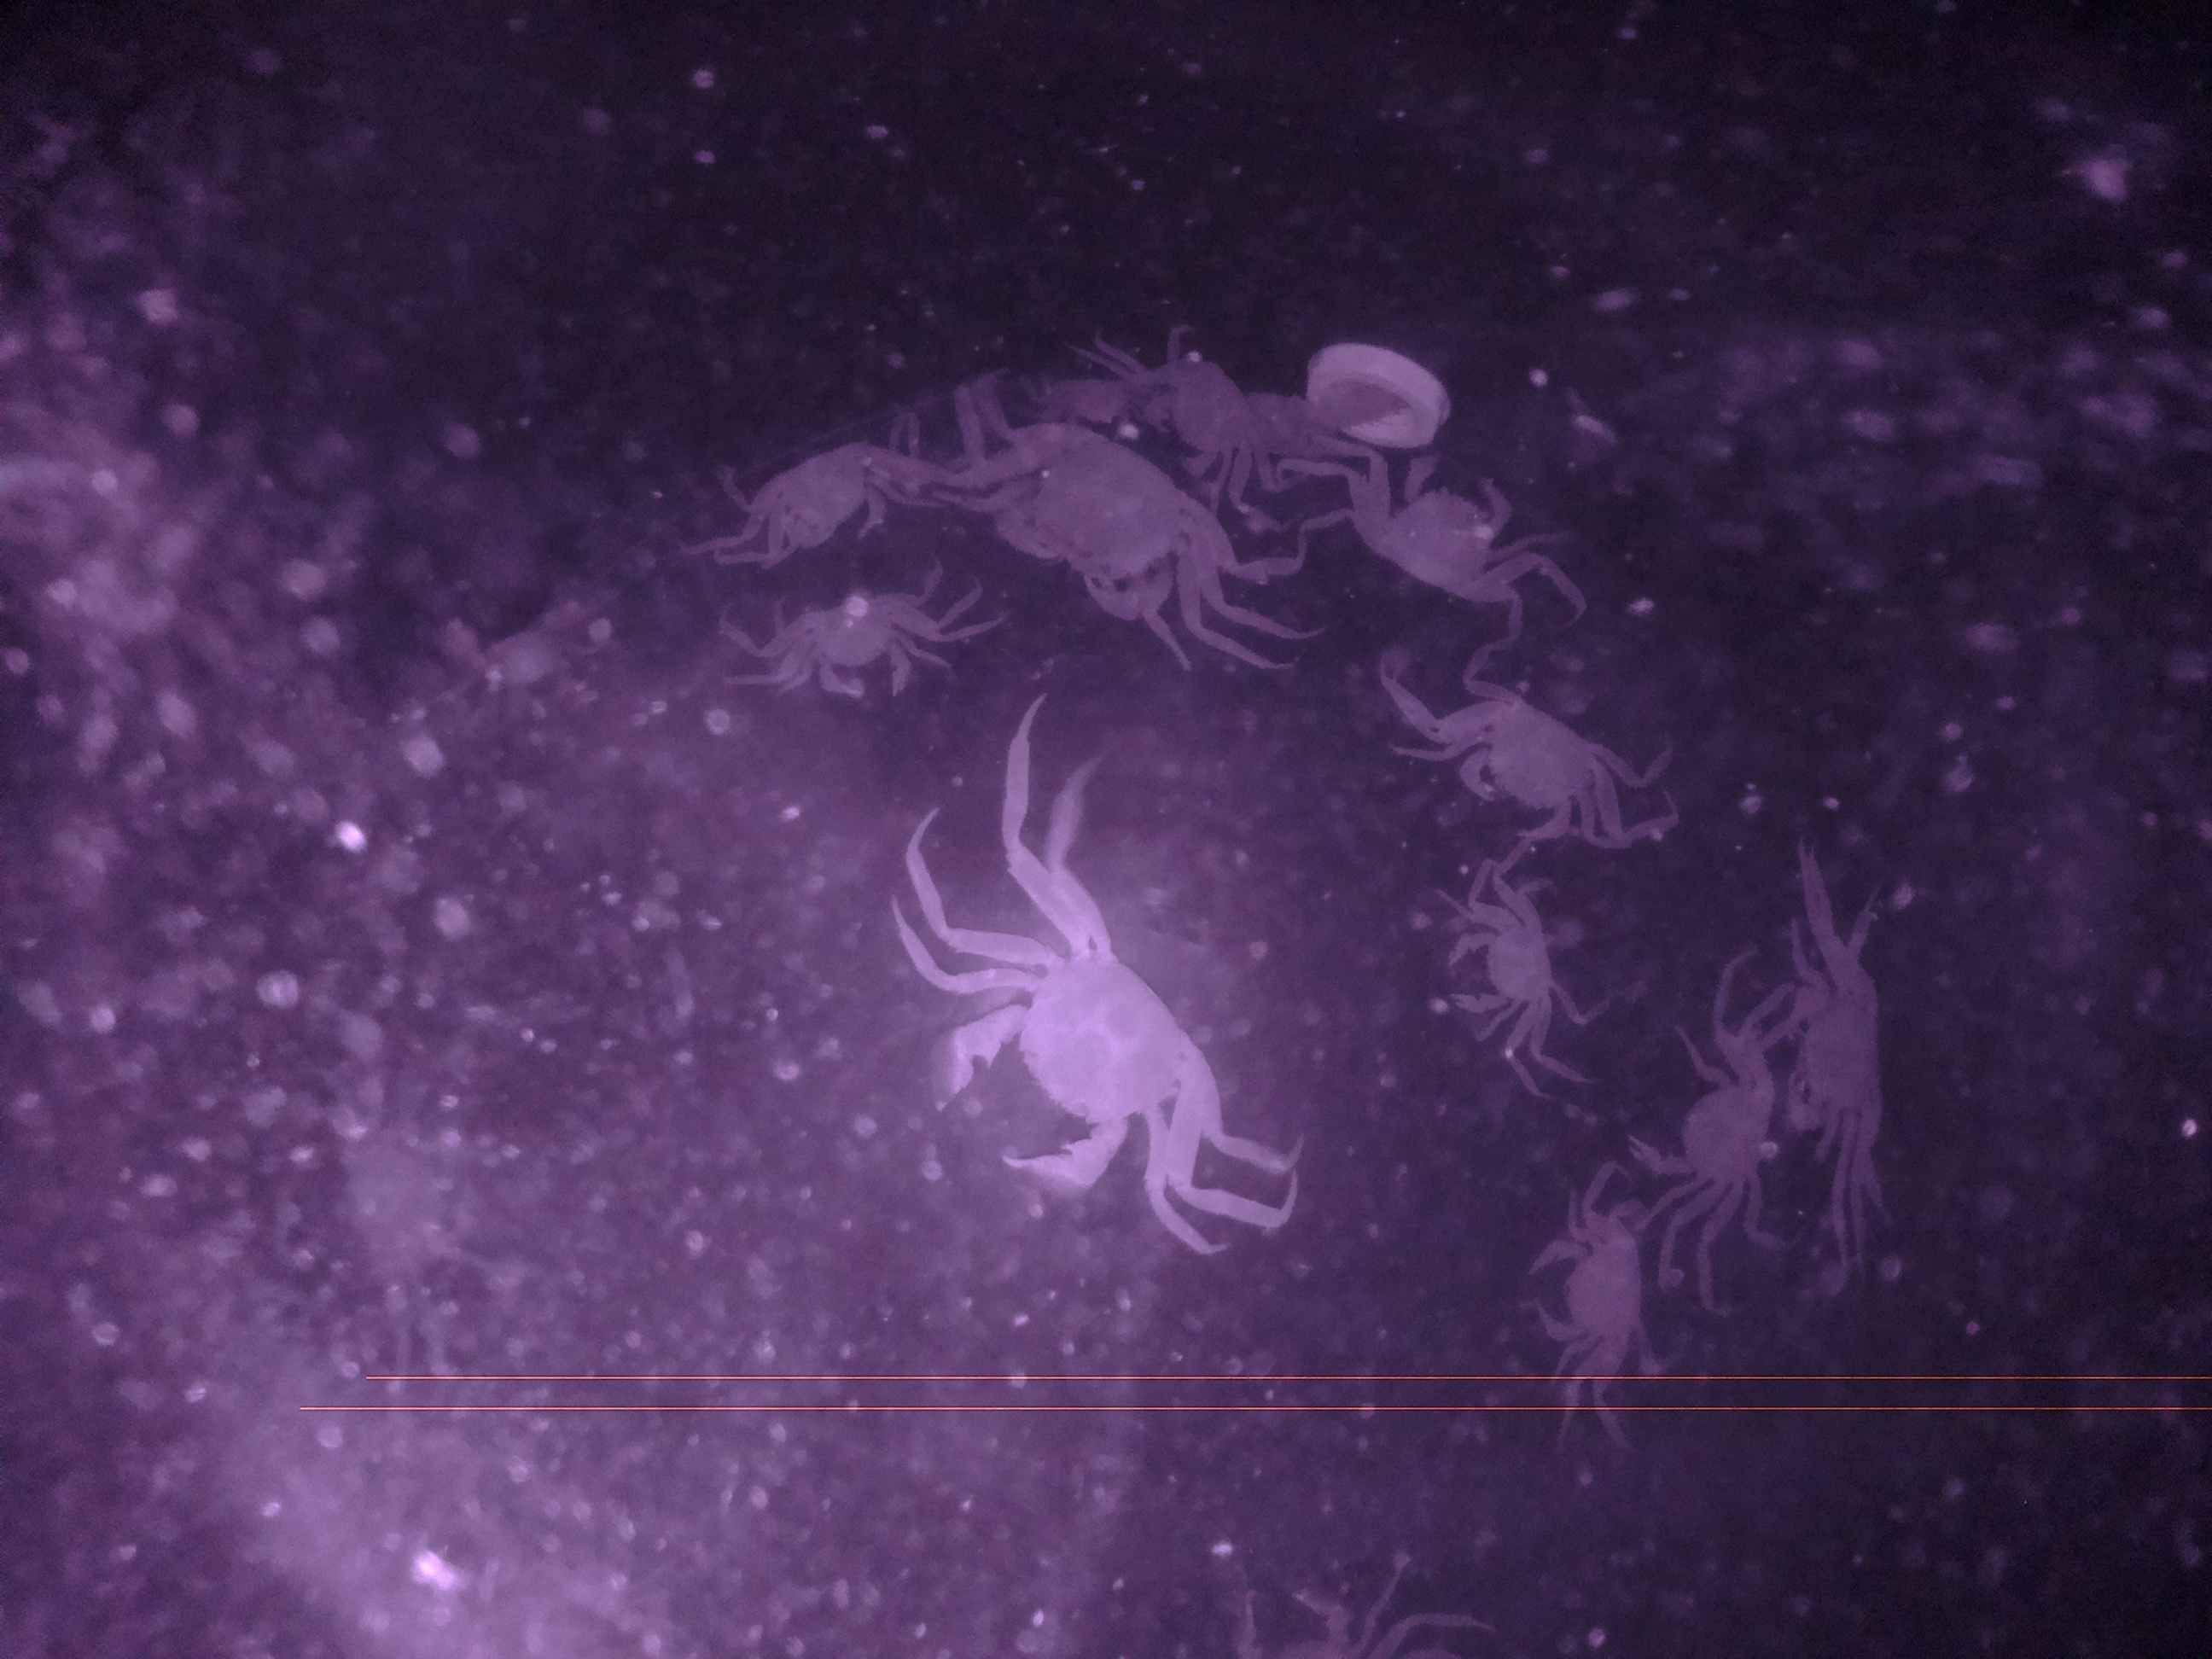Crab: (911, 924, 1219, 1199), (961, 401, 1244, 647), (1432, 676, 1627, 849), (1120, 324, 1287, 507), (1768, 964, 1923, 1155), (1637, 1019, 1777, 1218), (1362, 451, 1531, 610), (728, 430, 923, 565), (1433, 890, 1571, 1046), (1521, 1206, 1649, 1361), (789, 591, 942, 706)
